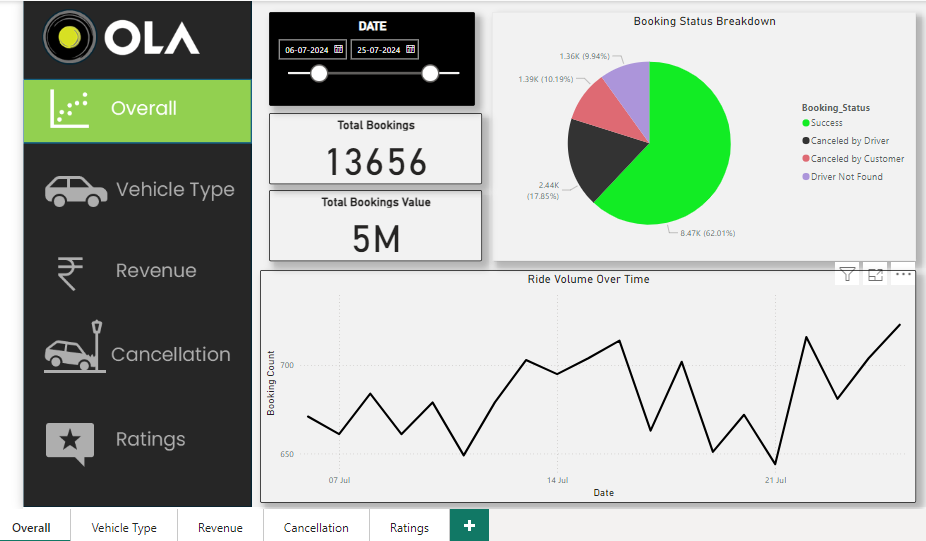

This screenshot's page, from the dashboard's own definition file:
{"tool":"powerbi","page":{"name":"Overall","canvas":[1280,720],"ordinal":0},"visuals":[{"type":"actionButton","box":[0,223.9,323.1,87.9],"z":0},{"type":"actionButton","box":[9.9,578.3,313.2,87.9],"z":1000},{"type":"actionButton","box":[0,223.9,323.1,87.9],"z":2000},{"type":"actionButton","box":[0,452.1,323.1,87.9],"z":3000},{"type":"actionButton","box":[0,337.3,323.1,87.9],"z":4000},{"type":"actionButton","box":[0,114.8,323.1,87.9],"z":5000},{"type":"pieChart","title":"Booking Status Breakdown","fields":{"Y":["CountNonNull(July.Booking_Status)"],"Category":["July.Booking_Status"]},"box":[664.7,15.6,600.9,352.9],"z":6000},{"type":"lineChart","title":"Ride Volume Over Time","fields":{"Y":["CountNonNull(July.Booking_ID)"],"Category":["July.Date"]},"box":[335.9,381.3,929.8,330.2],"z":7000},{"type":"slicer","title":"DATE","fields":{"Values":["July.Date"]},"box":[348.7,15.6,292,133.2],"z":8000},{"type":"card","title":"Total Bookings","fields":{"Values":["CountNonNull(July.Booking_ID)"]},"box":[348.7,158.7,301.9,100.6],"z":9000},{"type":"card","title":"Total Bookings Value","fields":{"Values":["Sum(July.Booking_Value)"]},"box":[348.7,267.9,301.9,100.6],"z":10000}]}

Visuals, with their boxes in screenshot pixels (x1, y1, x2, y2):
actionButton: <bbox>17, 155, 247, 218</bbox>
actionButton: <bbox>24, 408, 247, 470</bbox>
actionButton: <bbox>17, 155, 247, 218</bbox>
actionButton: <bbox>17, 318, 247, 380</bbox>
actionButton: <bbox>17, 236, 247, 299</bbox>
actionButton: <bbox>17, 77, 247, 140</bbox>
"Booking Status Breakdown" pieChart: <bbox>491, 6, 920, 258</bbox>
"Ride Volume Over Time" lineChart: <bbox>257, 267, 920, 503</bbox>
"DATE" slicer: <bbox>266, 6, 474, 101</bbox>
"Total Bookings" card: <bbox>266, 108, 481, 180</bbox>
"Total Bookings Value" card: <bbox>266, 186, 481, 258</bbox>
